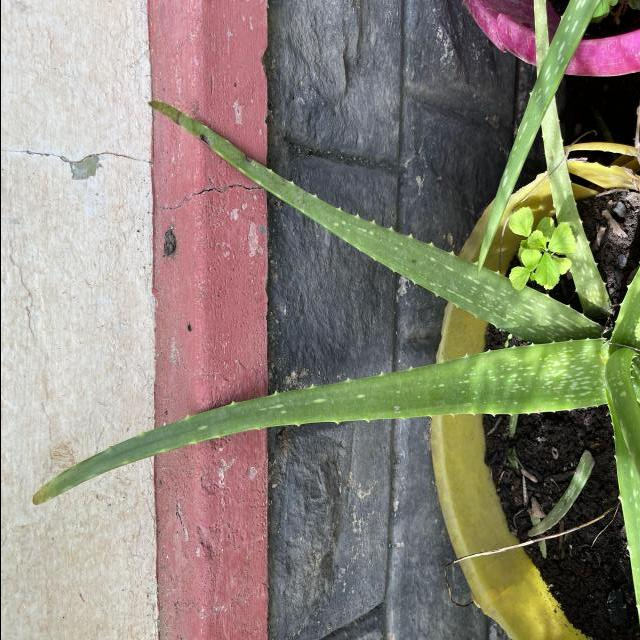Aloe vera: (29, 334, 610, 512)
